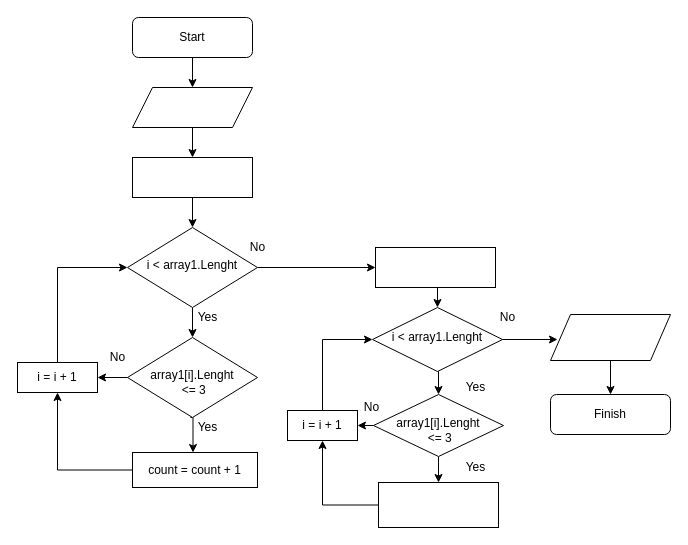
Image size: 688x545. Some labels were removed from this diagram. Each missing label, with the centre of its shape:
array2[count], i=0: (x=435, y=267)
array2[j] = array1[i] j = j + 1: (x=438, y=505)
i=0, j=0, count=0: (x=192, y=177)
Ввод array1[]: (x=192, y=107)
Вывод array2[]: (x=610, y=337)
